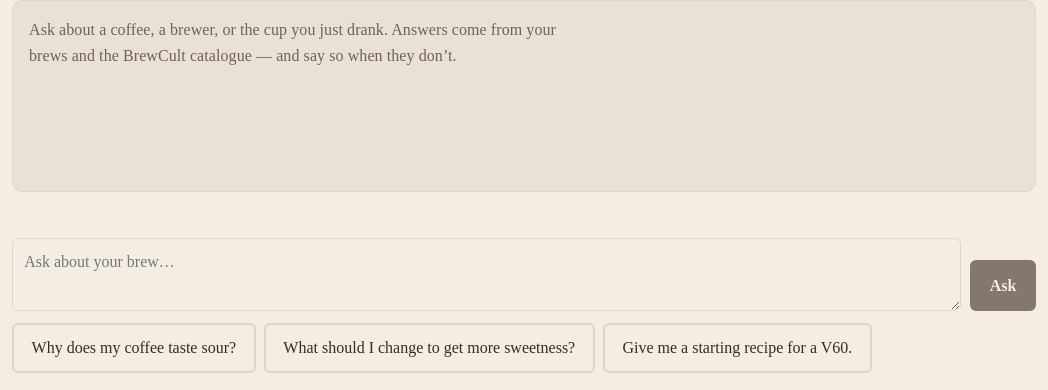
assistant chat › links only the entities the API returned
This screenshot has width=1048, height=390.
Step 1. Type "recommend something" into the text box named "Ask the brew assistant" → coordinates (486, 275), box [12,238,960,311]
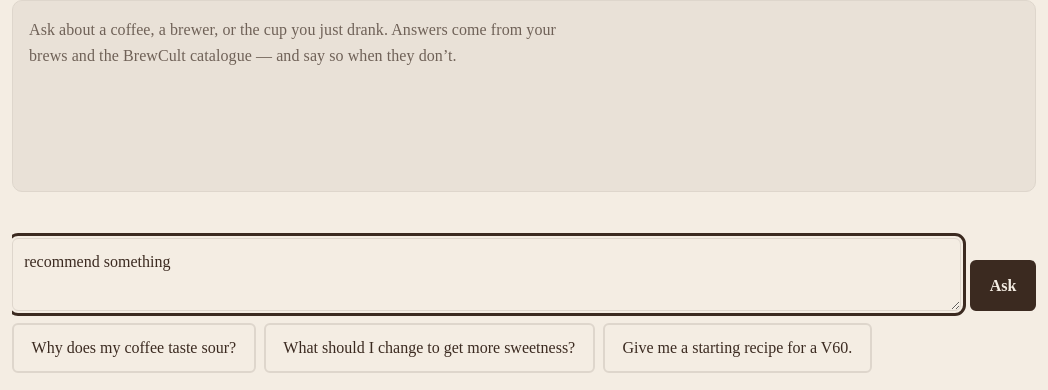
Step 2. Click the button "Ask" → coordinates (1003, 286), box [970,260,1036,311]
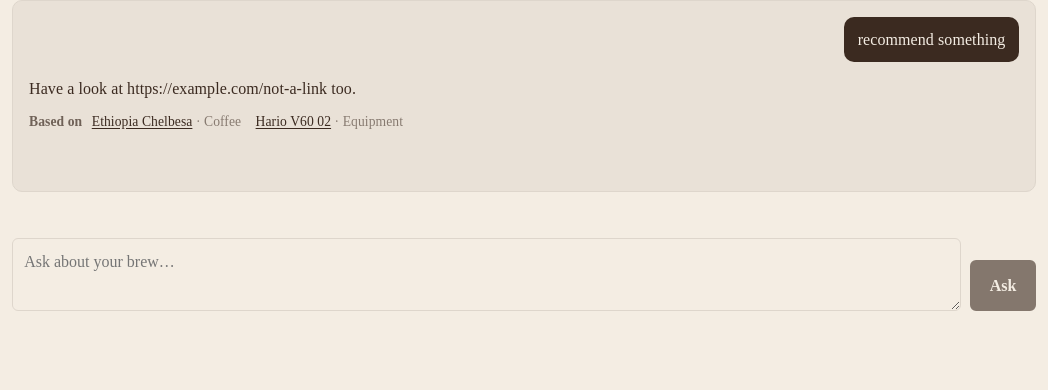
Now the number of links is 2, box [92,114,192,129]; [256,114,331,129]
